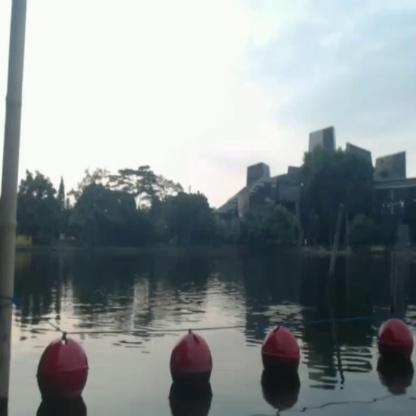red_buoy: (38, 338, 88, 404), (168, 336, 214, 390), (260, 330, 303, 381), (376, 322, 411, 364)
